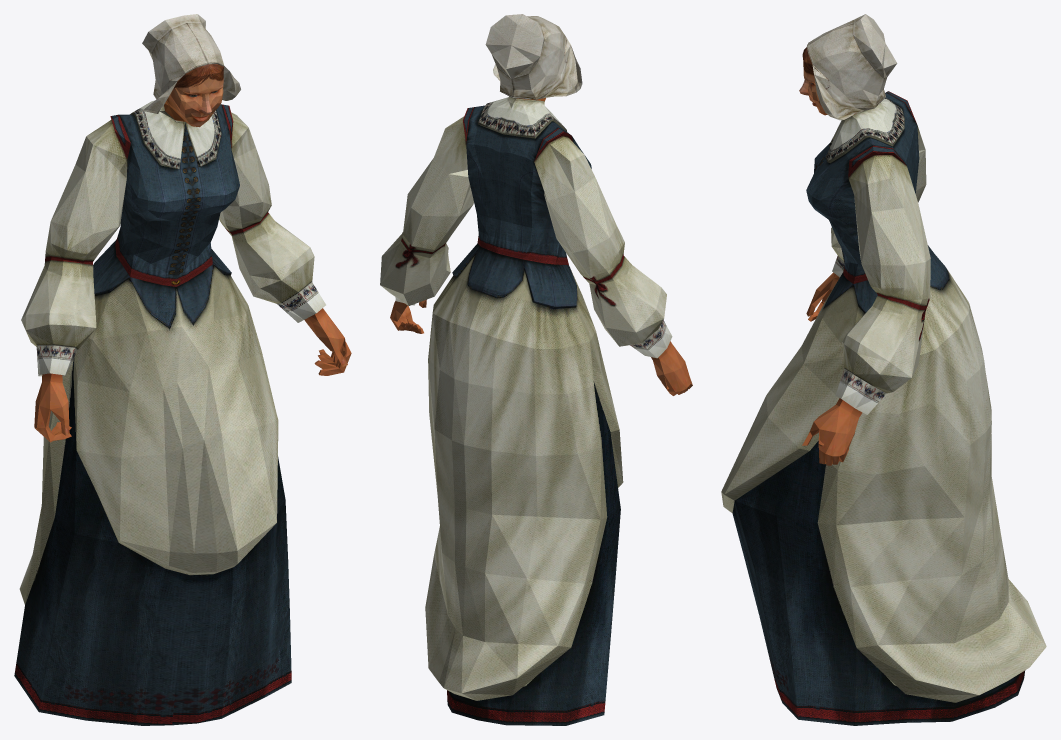
Rendered from Girl 2.obj.
The picture shows the model from 3 angles, left to right: view 1: azimuth 30°, elevation 25°; view 2: azimuth 150°, elevation 25°; view 3: azimuth 270°, elevation 25°; orthographic projection. The views are drawn at different scales.
Parts seen in each view (by area): view 1: Girl_2_Girl_2_Girl_2; view 2: Girl_2_Girl_2_Girl_2; view 3: Girl_2_Girl_2_Girl_2.
Part boxes in pixels (x1=…): Girl_2_Girl_2_Girl_2: x1=14, y1=14, x2=351, y2=725; Girl_2_Girl_2_Girl_2: x1=380, y1=14, x2=692, y2=725; Girl_2_Girl_2_Girl_2: x1=721, y1=14, x2=1046, y2=725.
Bounding box in the file's own units: 0.7843 × 1.66 × 0.7059.
Materials: 1 (1 with a texture image).
